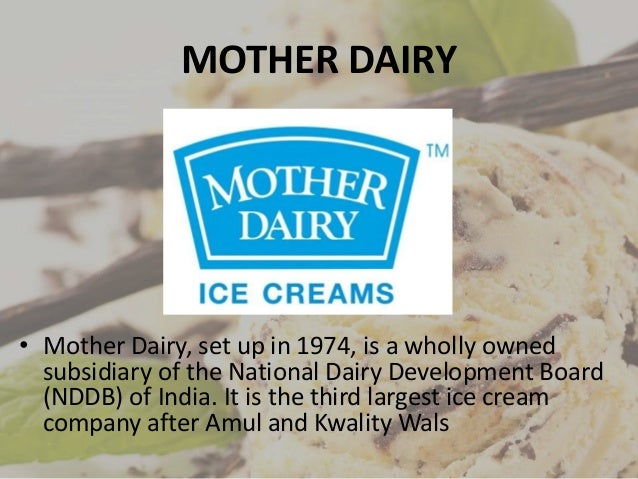Mother_Dairy: (162, 112, 454, 319)
